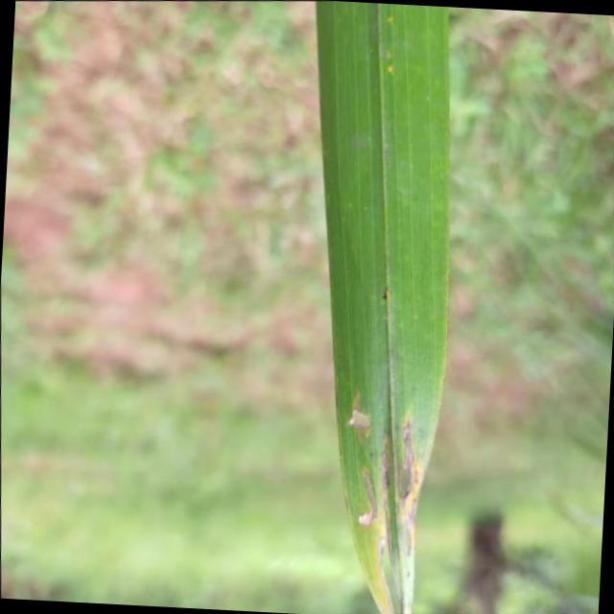Kalium: (313, 0, 458, 614)
